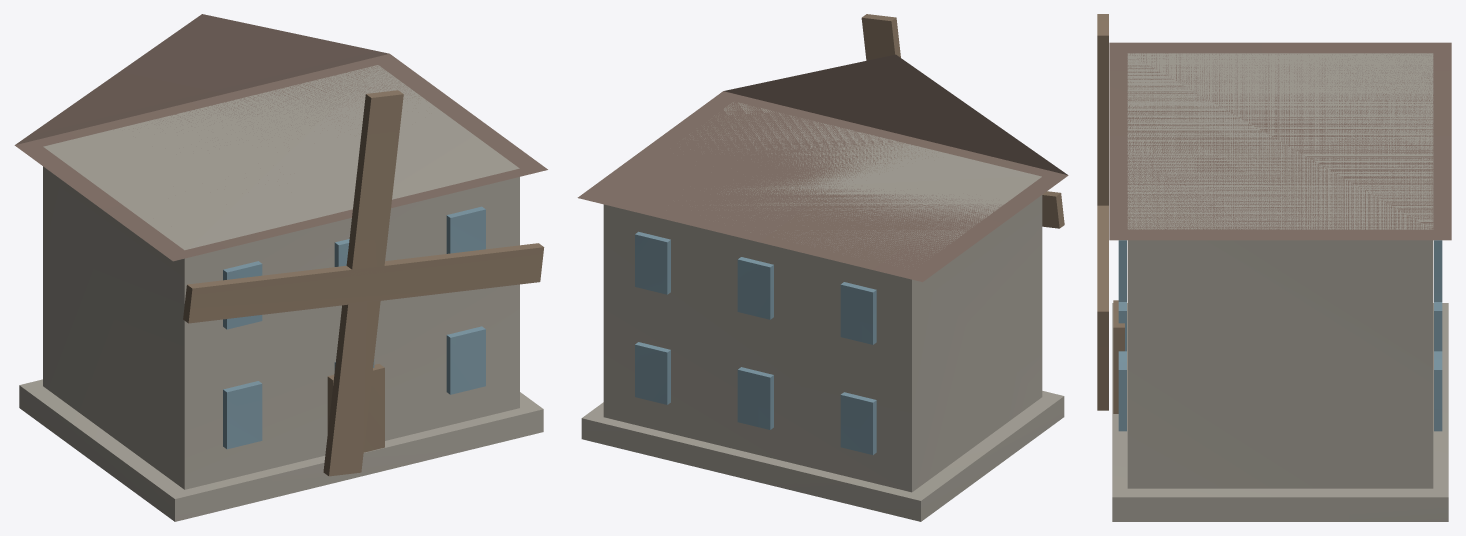
Rendered from windmill-01.glb.
The picture shows the model from 3 angles, left to right: view 1: azimuth 30°, elevation 25°; view 2: azimuth 150°, elevation 25°; view 3: azimuth 270°, elevation 25°; orthographic projection. The views are drawn at different scales.
Parts seen in each view (by area): view 1: world; view 2: world; view 3: world.
Part boxes in pixels (left/top/right/bottom): world: left=14, top=14, right=547, bottom=521; world: left=577, top=14, right=1068, bottom=521; world: left=1097, top=14, right=1451, bottom=521.
Bounding box in the file's own units: 1.38 × 1.34 × 1.04.
